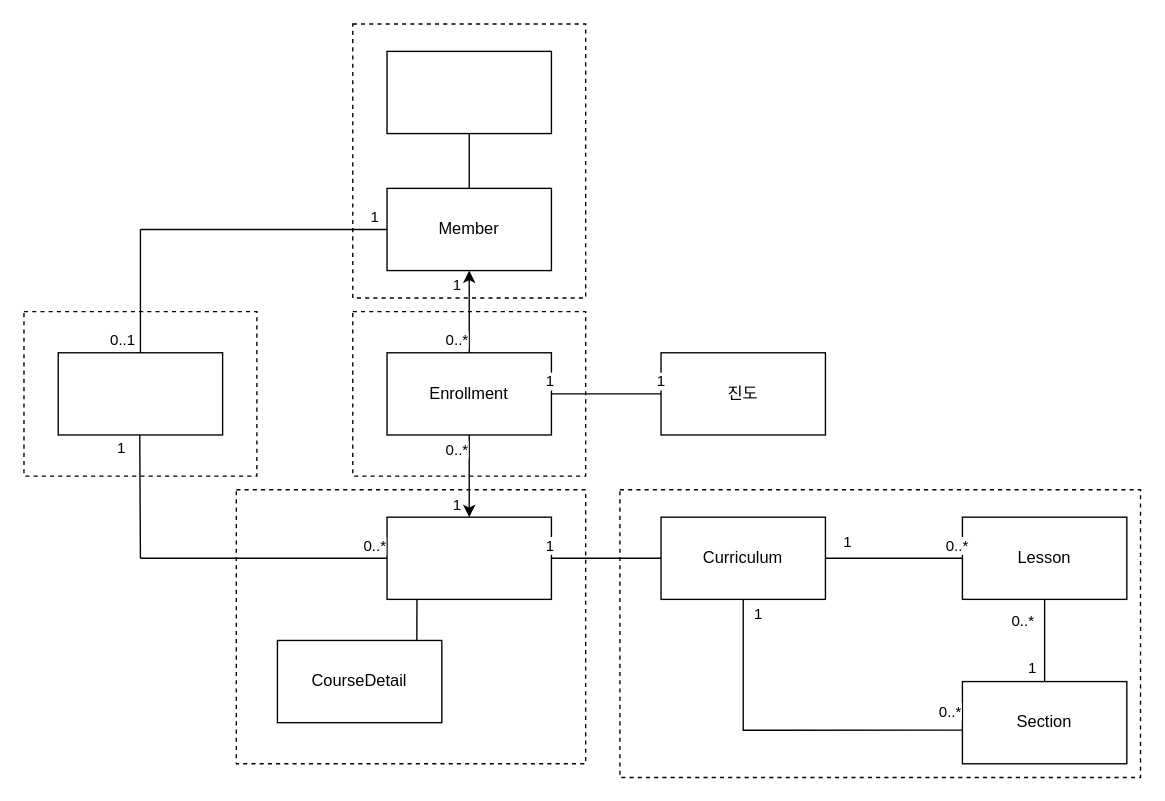
This 1165x801 diagram has some shape labels left out. The box of each missing label's shape, as (x1, y1, x2, y2) in pixels:
Course: (386, 516, 551, 599)
Instructor: (57, 351, 223, 435)
MemberDetail: (386, 50, 551, 134)
